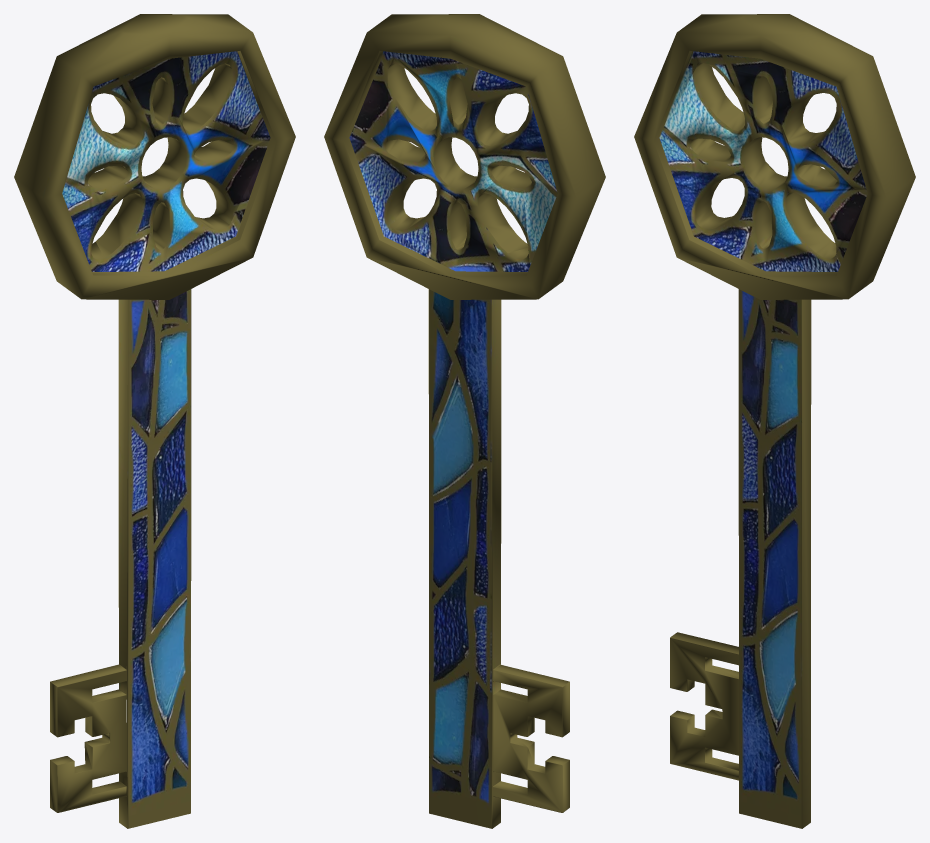
The model's file is key.glb.
3 renders of one model, left to right at view 1: azimuth 30°, elevation 25°; view 2: azimuth 150°, elevation 25°; view 3: azimuth 330°, elevation 25°, orthographic.
Parts seen in each view (by area): view 1: Mesh_0.005; view 2: Mesh_0.005; view 3: Mesh_0.005.
Part boxes in pixels (x1=…): Mesh_0.005: x1=14, y1=14, x2=295, y2=828; Mesh_0.005: x1=324, y1=14, x2=605, y2=828; Mesh_0.005: x1=634, y1=14, x2=915, y2=828.
Size of the model in its own units: 0.25 by 0.75 by 0.05.
Materials: 1 (1 with a texture image).
